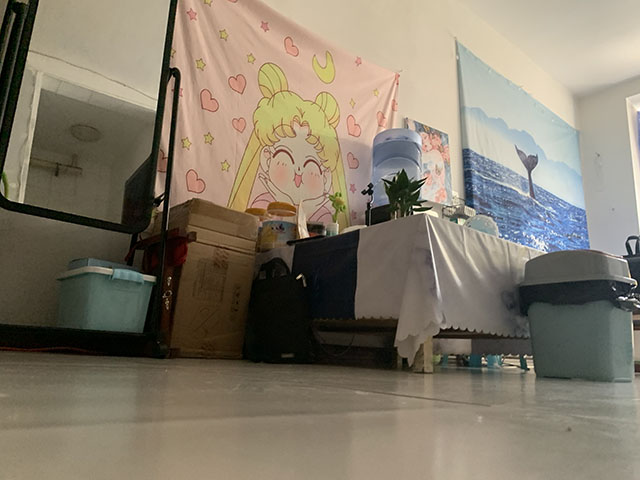table: (256, 212, 547, 375)
trashcan: (517, 248, 640, 385)
